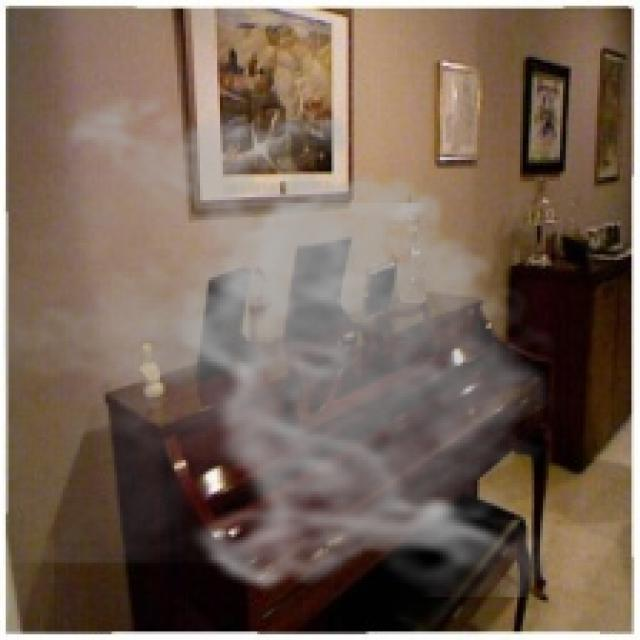Smoke: (2, 80, 568, 597)
